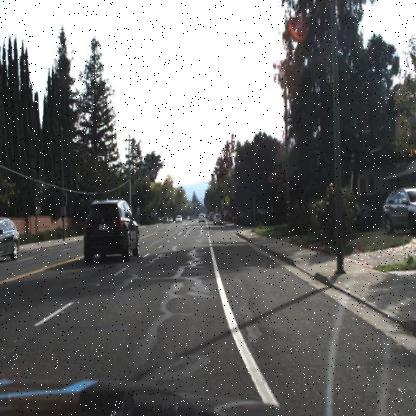car: (78, 194, 141, 266), (383, 184, 415, 237), (0, 216, 20, 262), (196, 210, 207, 226), (210, 212, 221, 228)
